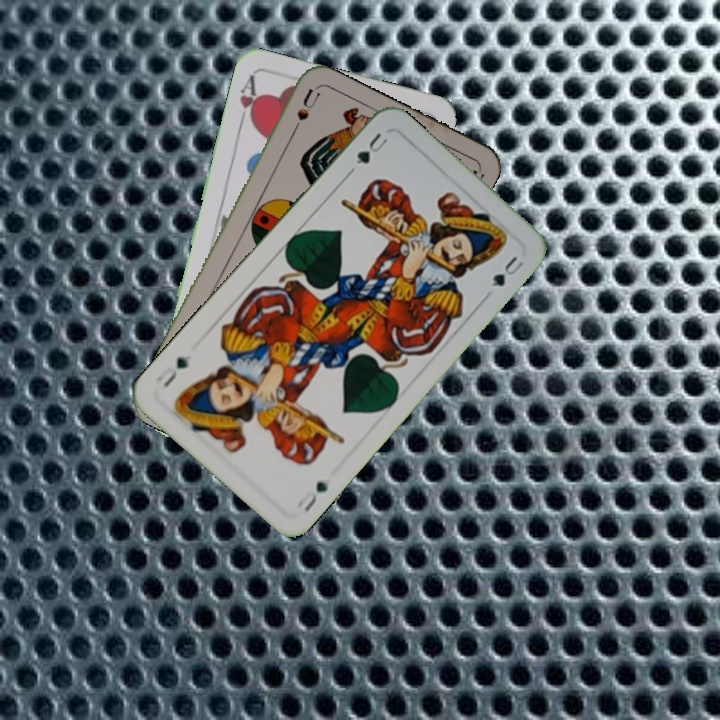GU: (351, 128, 391, 167), (293, 477, 332, 515)
HA: (235, 71, 262, 130)
SU: (285, 85, 322, 142)
